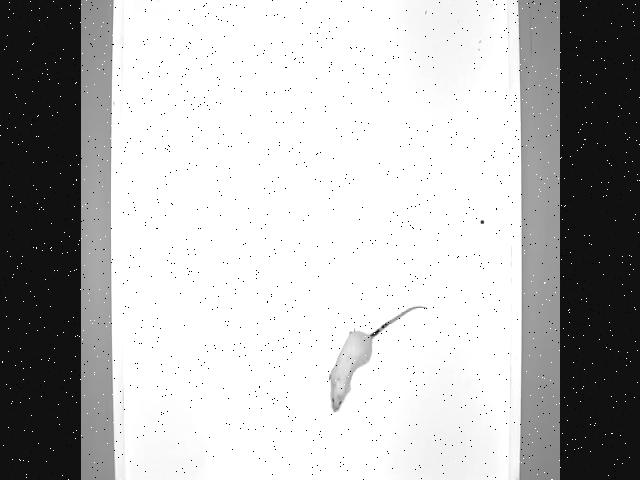Tikus: (326, 301, 430, 415)
